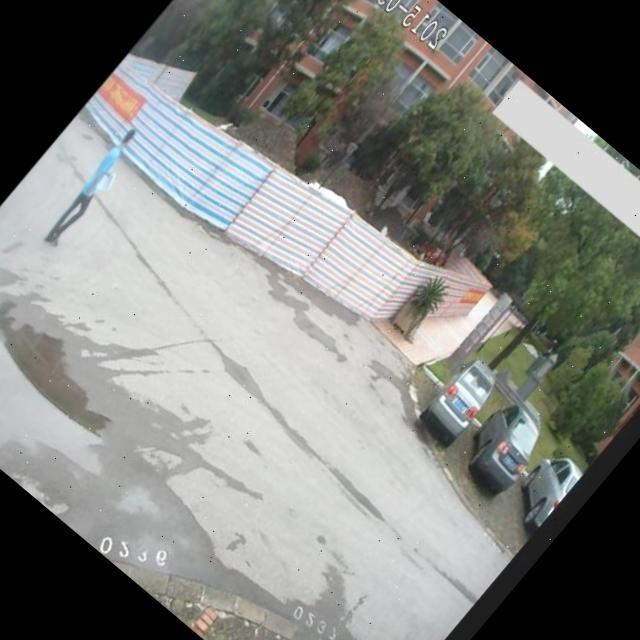person: (34, 120, 154, 256)
